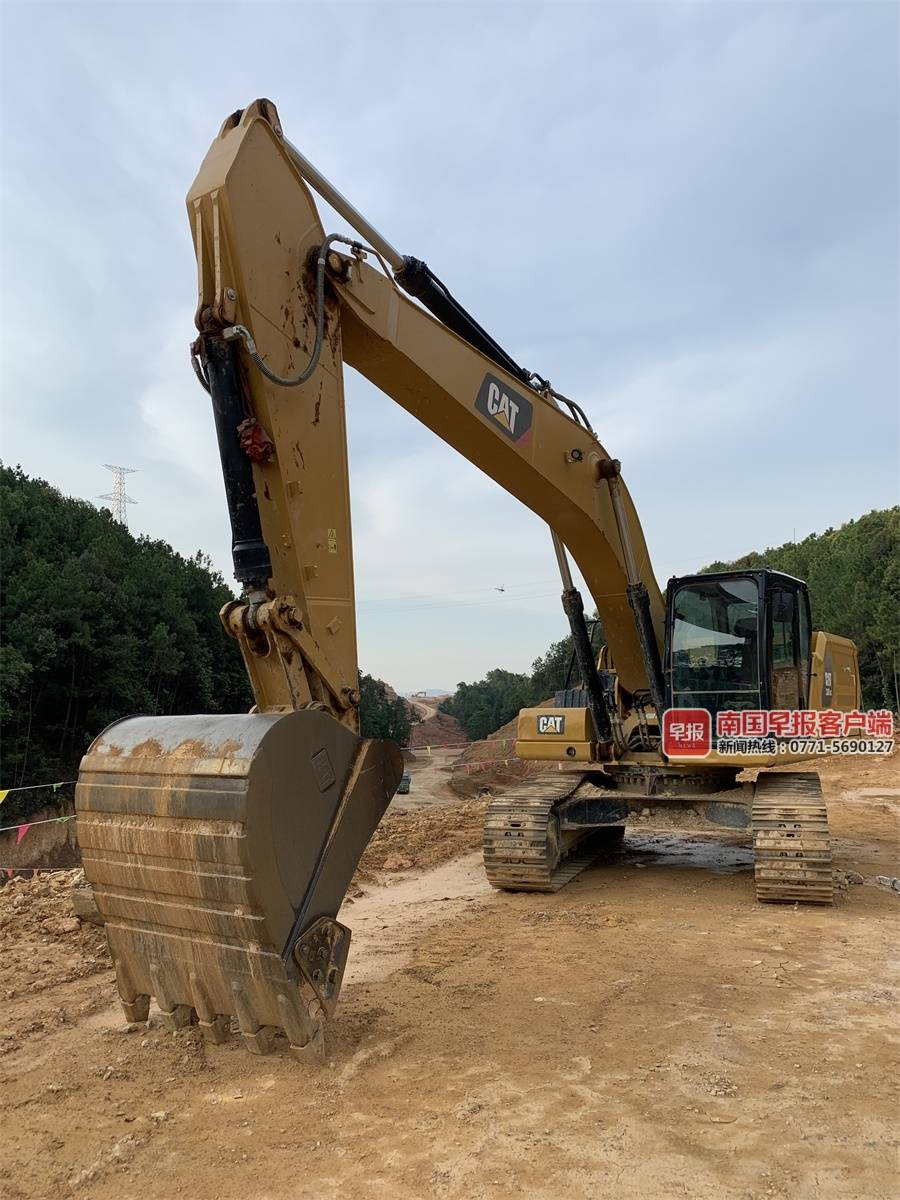excavator: (58, 57, 861, 1065)
